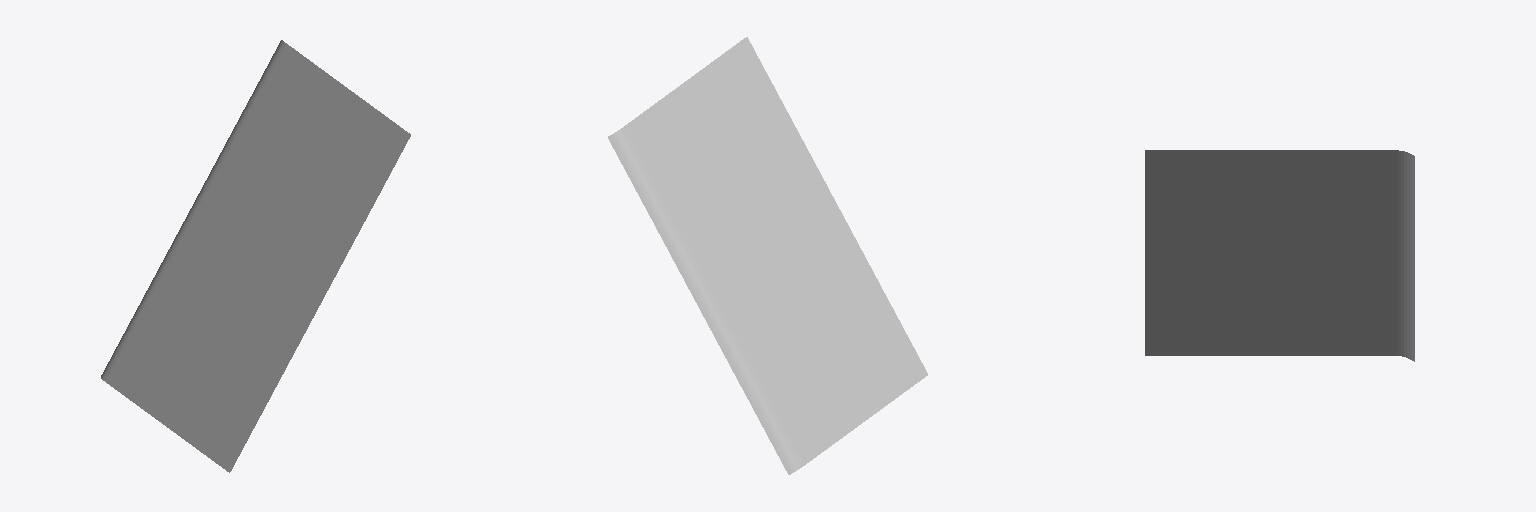
Rendered from Page_11-12_Plane_003.obj.
The picture shows the model from 3 angles: view 1: azimuth 30°, elevation 25°; view 2: azimuth 150°, elevation 25°; view 3: azimuth 270°, elevation 25°; orthographic projection.
Parts seen in each view (by area): view 1: Page_11-12_Plane.003; view 2: Page_11-12_Plane.003; view 3: Page_11-12_Plane.003.
Boxes of the visible parts, x1,y1,x2,y2 form: Page_11-12_Plane.003: [101, 40, 410, 472]; Page_11-12_Plane.003: [608, 37, 927, 474]; Page_11-12_Plane.003: [1145, 150, 1414, 361].
Size of the model in its own units: 2.27 by 3.46 by 2.84.